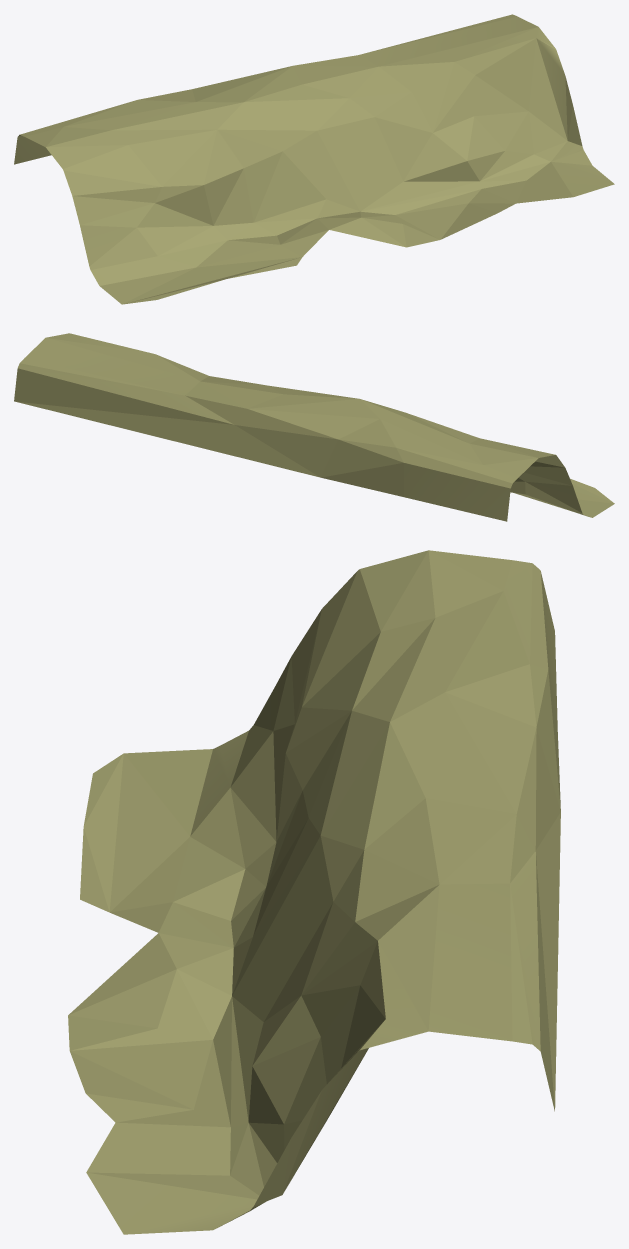
3 views of the same model, one above another, from view 1: azimuth 30°, elevation 25°; view 2: azimuth 150°, elevation 25°; view 3: azimuth 270°, elevation 25° (orthographic). The views are drawn at different scales.
Parts seen in each view (by area): view 1: polySurface8; view 2: polySurface8; view 3: polySurface8.
Part boxes in pixels (left/top/right/bottom): polySurface8: left=14, top=14, right=614, bottom=304; polySurface8: left=14, top=333, right=614, bottom=521; polySurface8: left=68, top=550, right=560, bottom=1234.
Size of the model in its own units: 1306 by 274 by 565.
